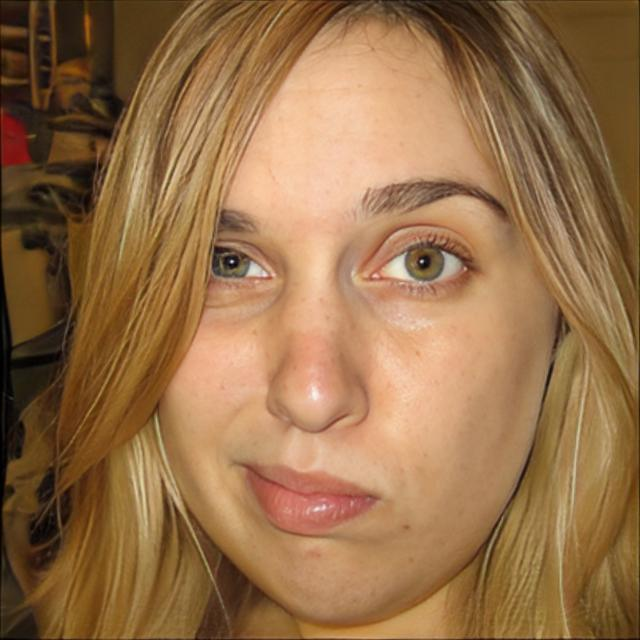content: (148, 7, 560, 628)
